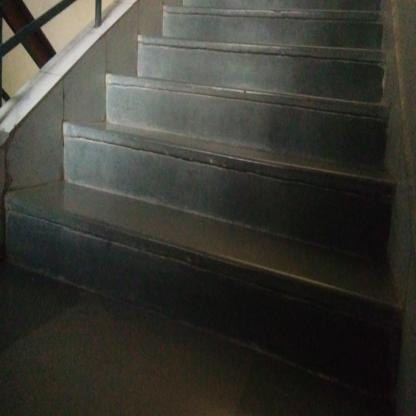stairs: (129, 77, 357, 375)
